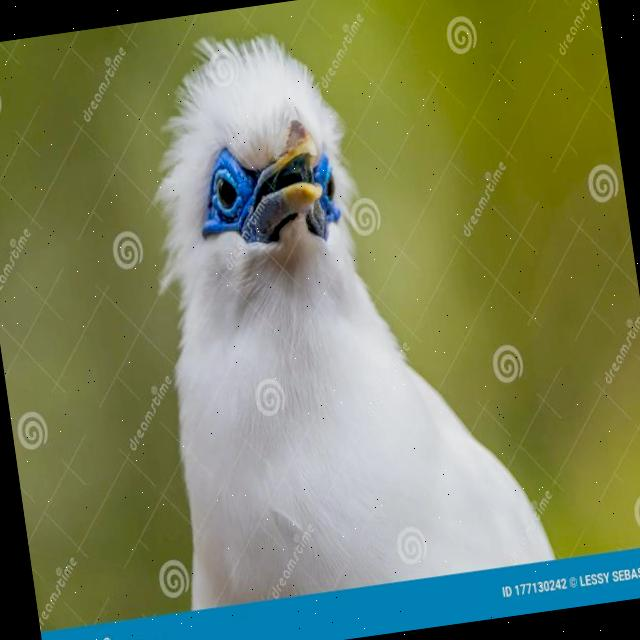Jalak Bali: (94, 0, 554, 610)
